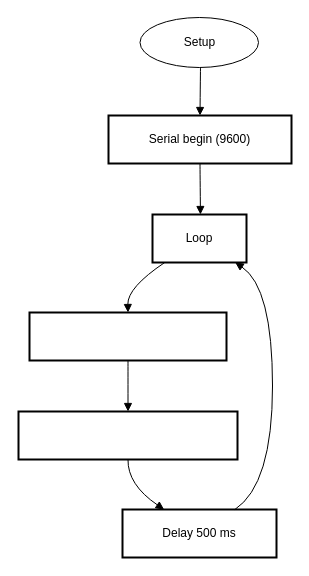
The diagram is 309 pixels wide and 576 high, and some of its shapes have lost their labels. Here are the shapes that lost their labels. From the top down, the box of each, then its label:
(28, 311, 227, 361): Read analog (pinpot)
(17, 410, 238, 460): Print nilaipot to Serial
